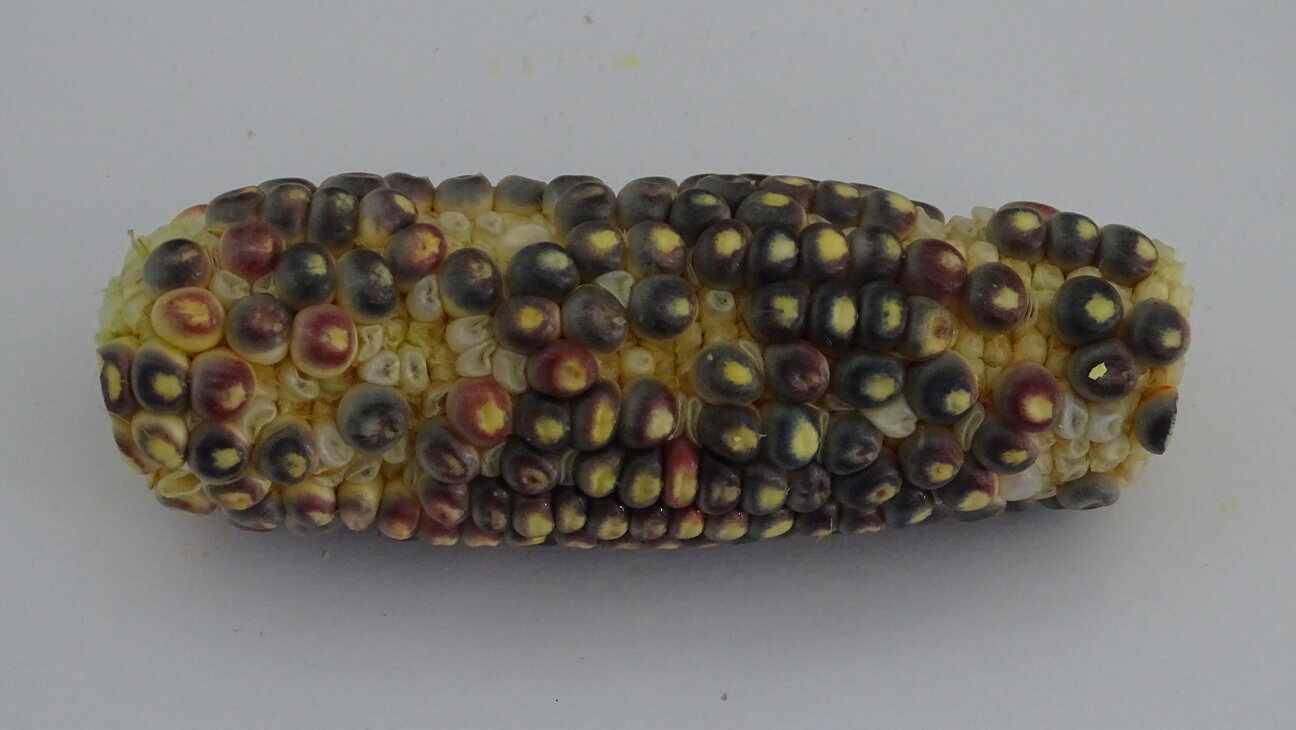corn: (289, 301, 358, 376)
